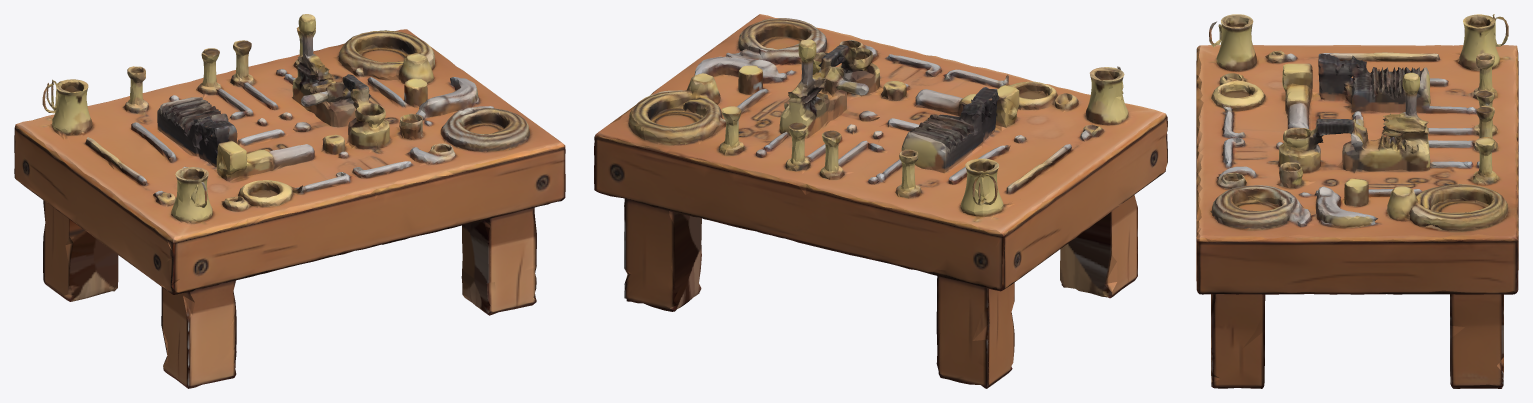
The model's file is Furn_SprigBench.glb.
3 views of the same model, side by side, from view 1: azimuth 30°, elevation 25°; view 2: azimuth 150°, elevation 25°; view 3: azimuth 270°, elevation 25° (orthographic). The views are drawn at different scales.
Parts seen in each view (by area): view 1: Furn_SprigBench; view 2: Furn_SprigBench; view 3: Furn_SprigBench.
Part boxes in pixels (x1,y1,x2,y2): Furn_SprigBench: (14,14,565,388); Furn_SprigBench: (594,14,1167,388); Furn_SprigBench: (1196,14,1518,388).
Bounding box in the file's own units: 1.03 × 0.62 × 0.7224.
1 material, 1 textured.
